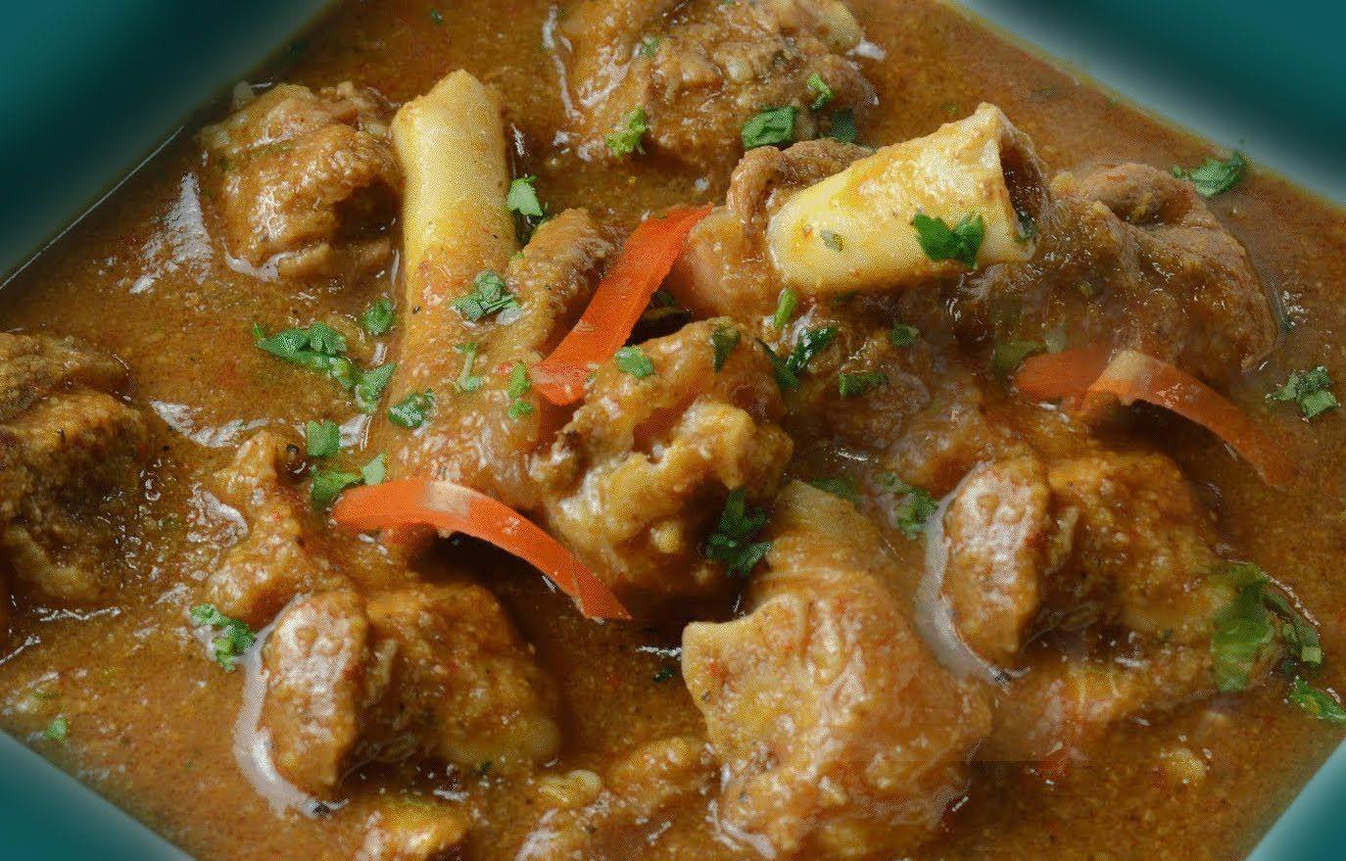MuttonCurry: (1, 0, 1346, 861)
